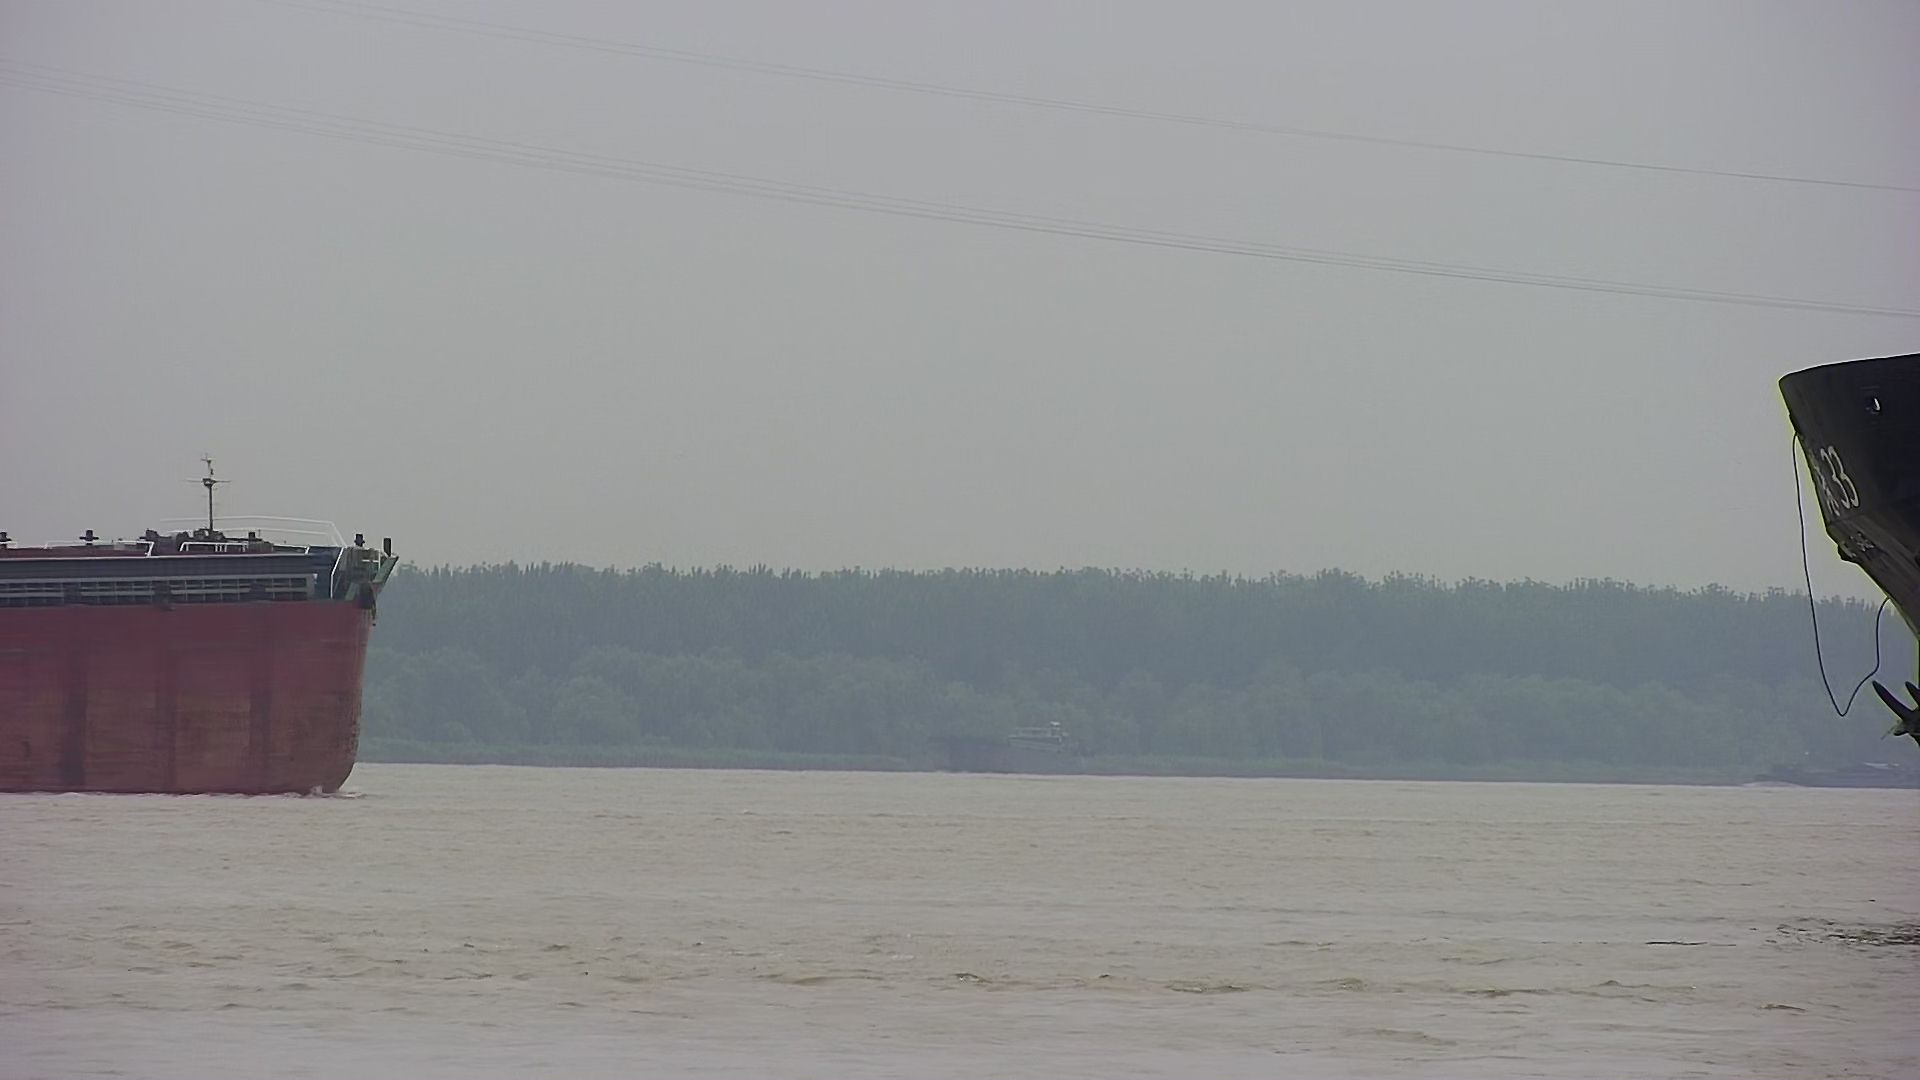ship: (1, 447, 404, 808), (1780, 344, 1920, 940)
